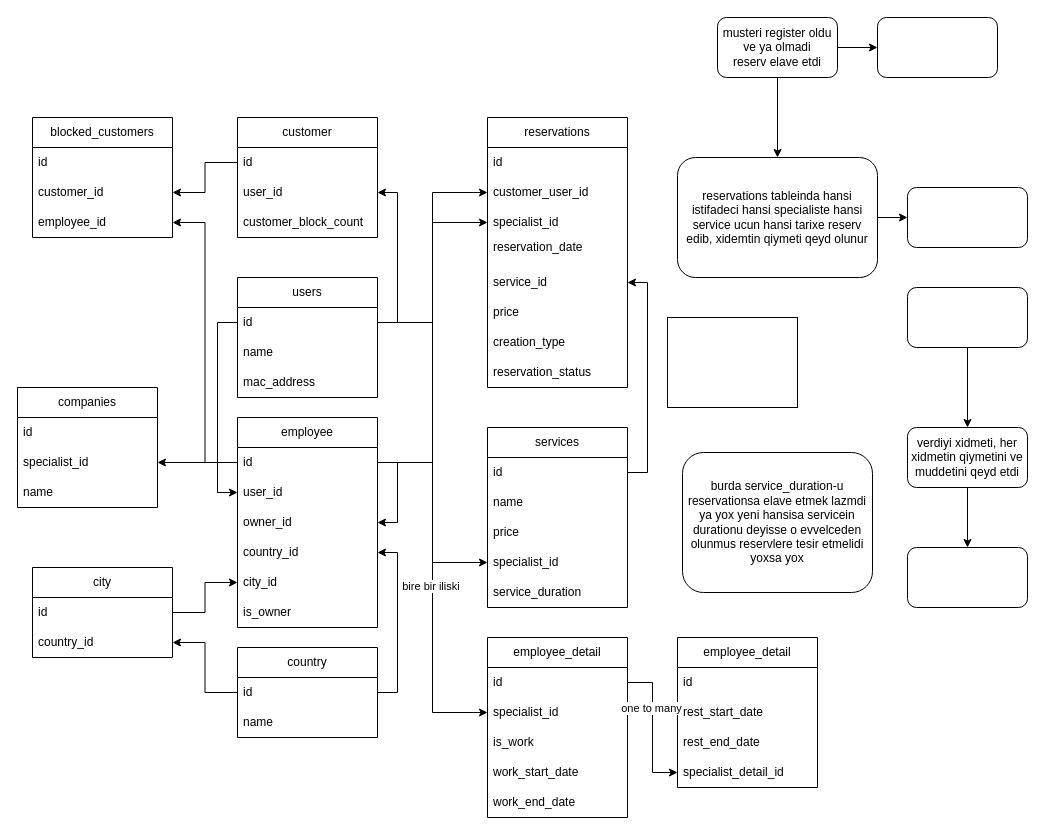
The diagram is 1045 pixels wide and 835 high, and some of its shapes have lost their labels. Here are the shapes that lost their labels. From the top down, the centre of each, then its label:
(937,47): olmasada number mandatorydi
(967,217): specialiste bildiris getdi
(967,317): specialist qeydiyyatdan kecdi
(732,362): manual olaraq specialistmi elave edib reservi yoxsa musteri mi webden edib
(967,577): hansi tarixde ne hansi saaatlarda islemeyeceyini qeyd etdi
